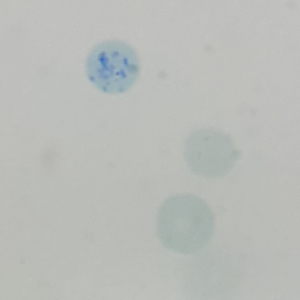aggregate reticulocyte: (84, 38, 142, 96)
erythrocyte: (153, 190, 218, 257), (182, 125, 242, 180)
